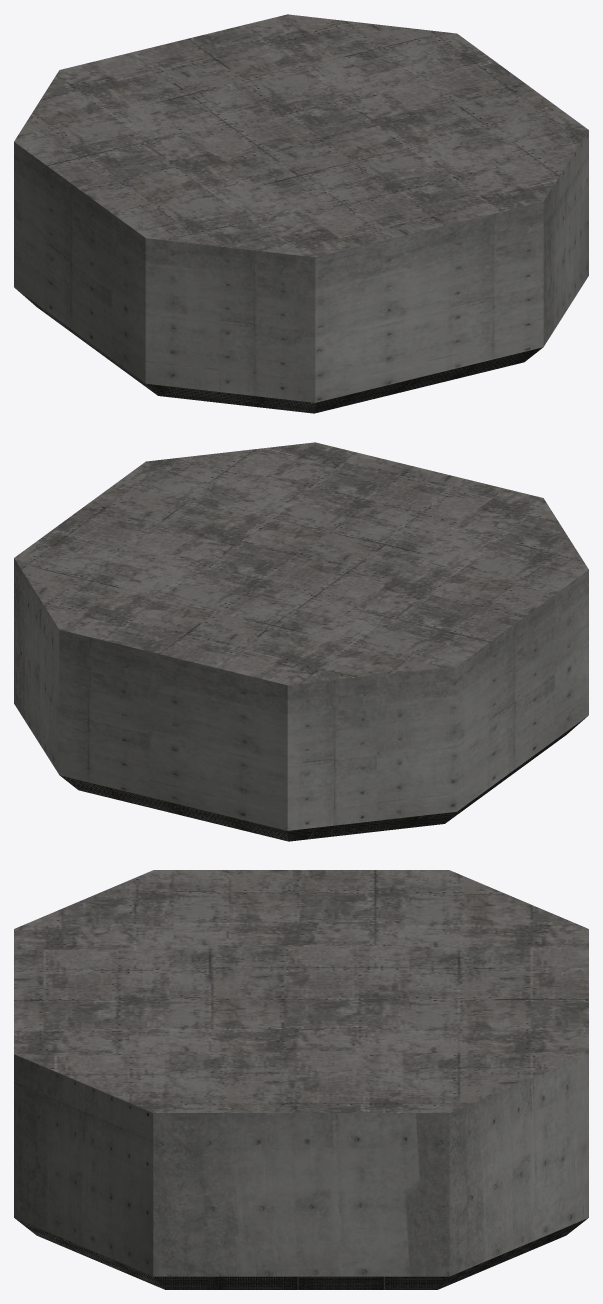
File: Battle_Stage.fbx
3 views of the same model, one above another, from view 1: azimuth 30°, elevation 25°; view 2: azimuth 150°, elevation 25°; view 3: azimuth 270°, elevation 25° (orthographic). The views are drawn at different scales.
Parts seen in each view (by area): view 1: Plane; view 2: Plane; view 3: Plane.
Part boxes in pixels (bbox=[...]): Plane: bbox=[14, 14, 588, 413]; Plane: bbox=[14, 442, 588, 841]; Plane: bbox=[14, 870, 588, 1289].
Size of the model in its own units: 217 by 77.65 by 217.
Materials: 1 (1 with a texture image).
